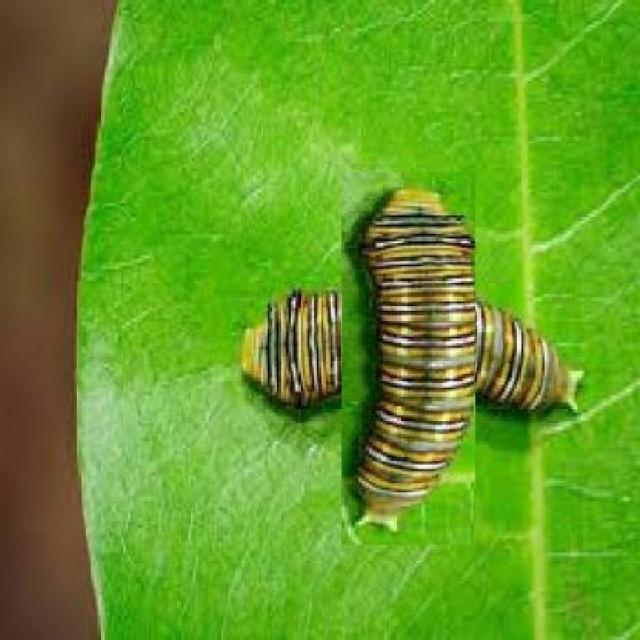Plaga: (282, 232, 539, 487)
